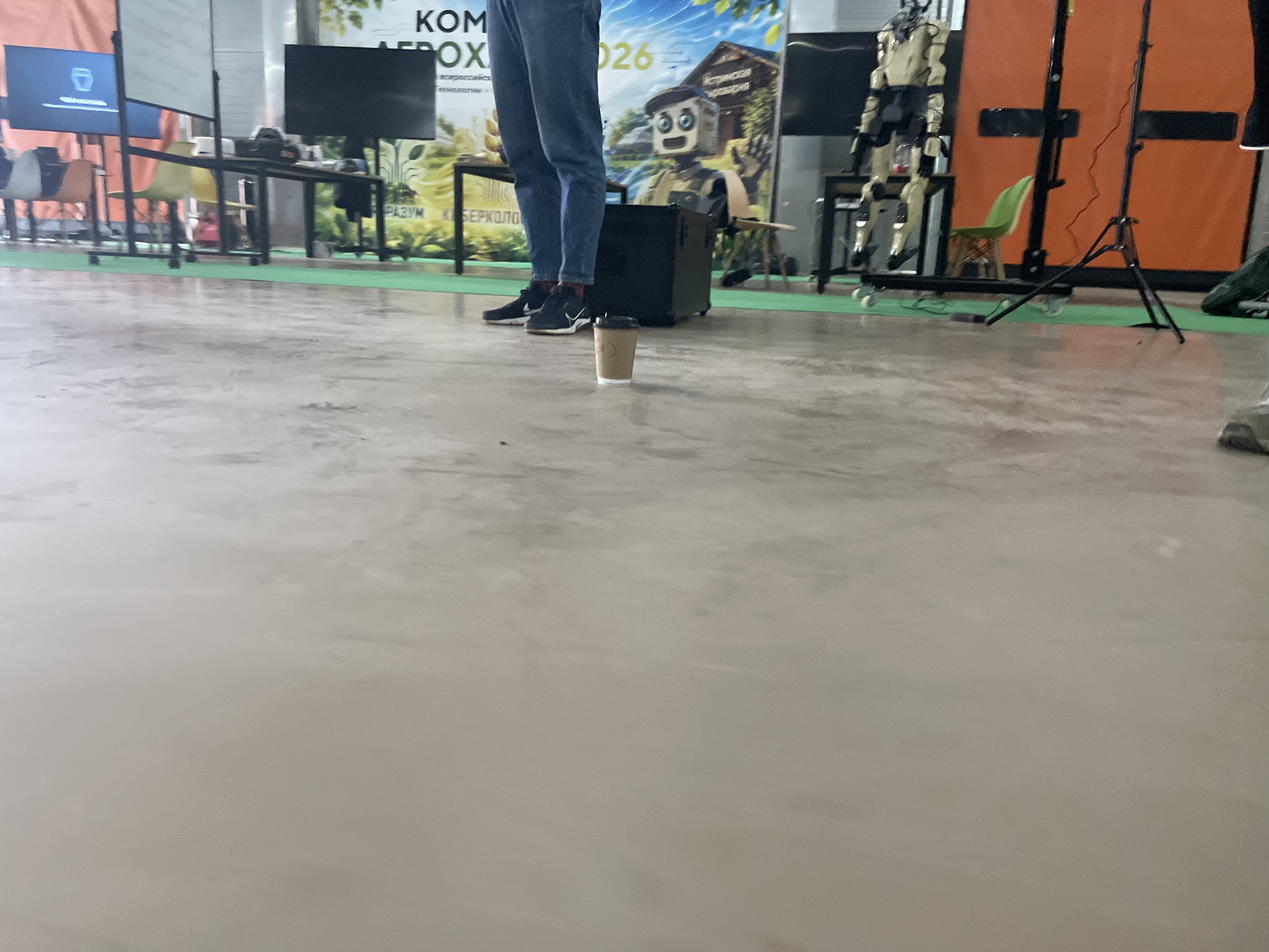cup: (592, 312, 640, 386)
